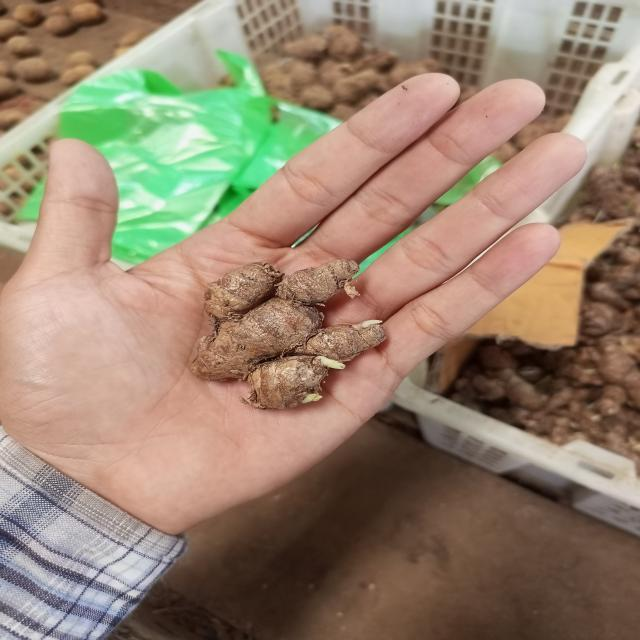ginger: (202, 250, 371, 394)
